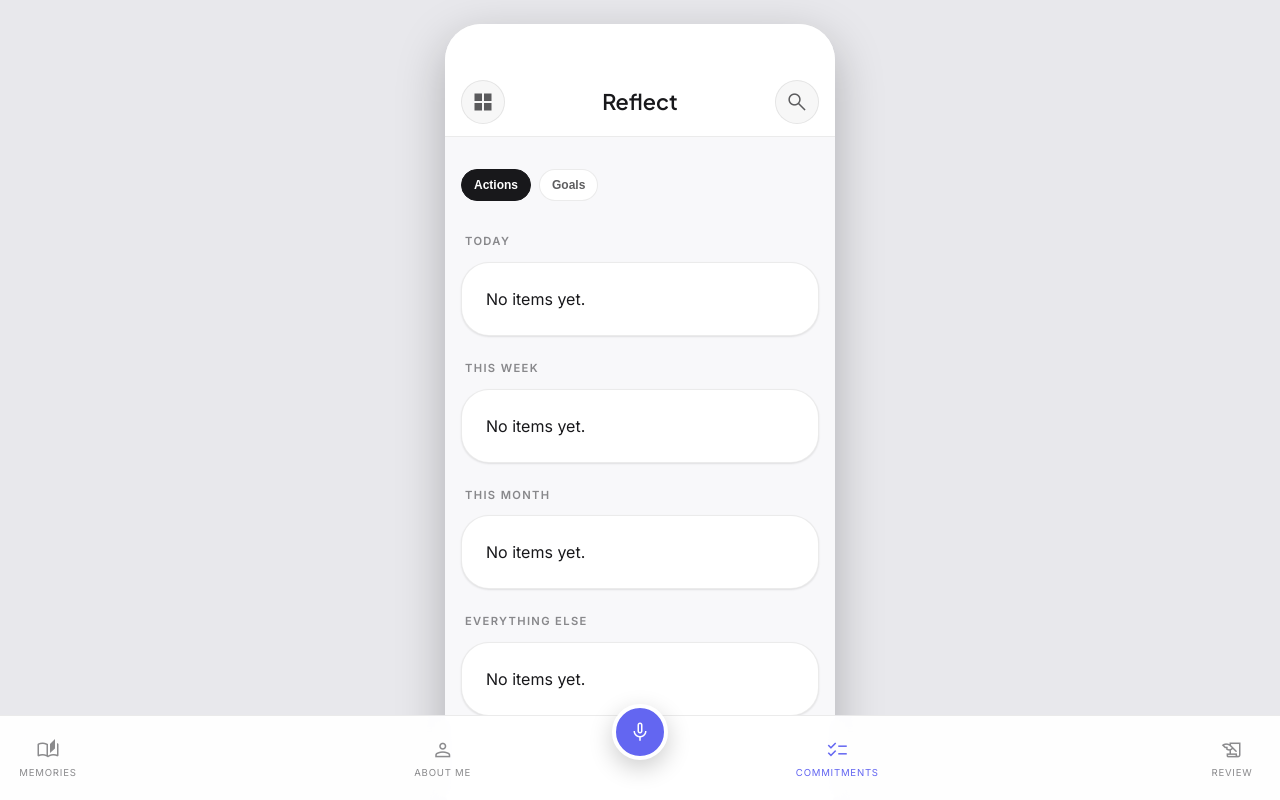
Test: Reflect Goals tab › navigates to Goals sub-tab when clicked
What coordinates should you click on to do the following:
click the button "Goals"
I would click on:
 (569, 185)
Its box is [539,169,598,201].
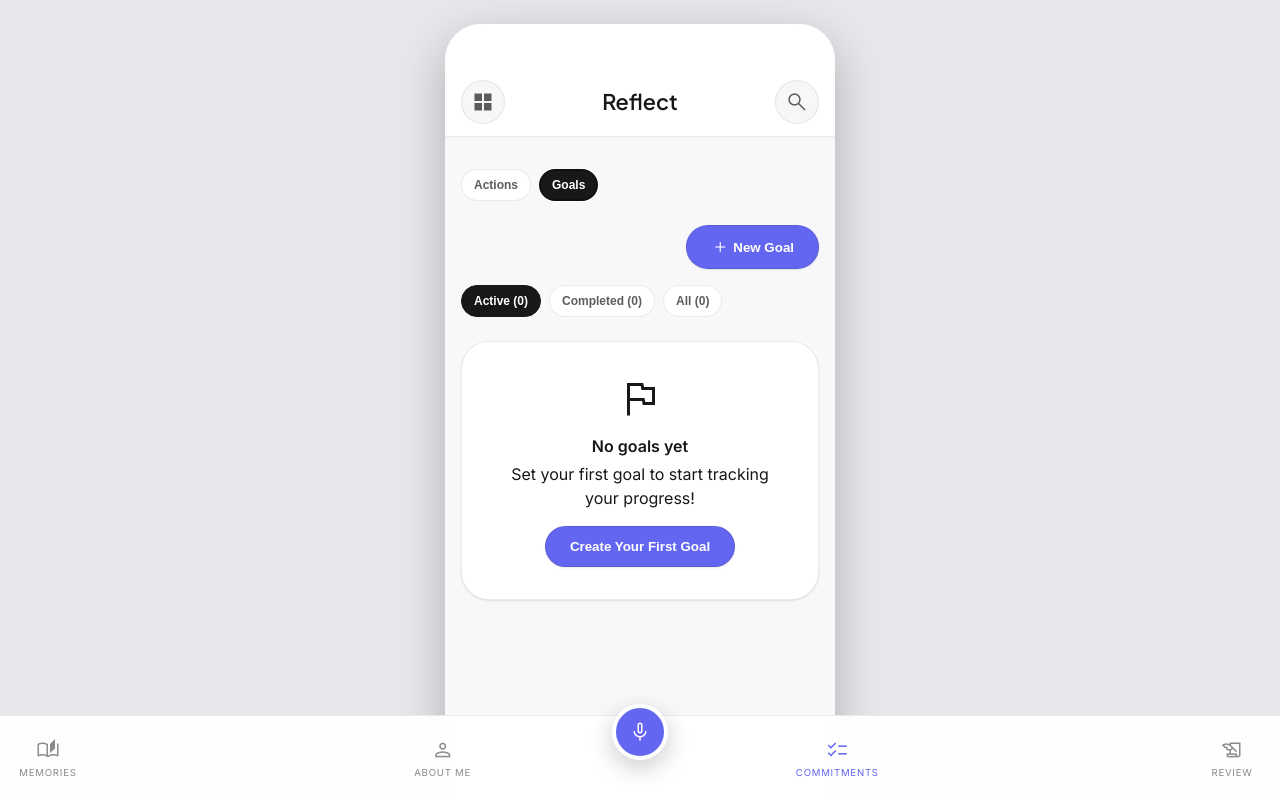
Now the text "No goals yet" is shown, box [592,436,688,456]
